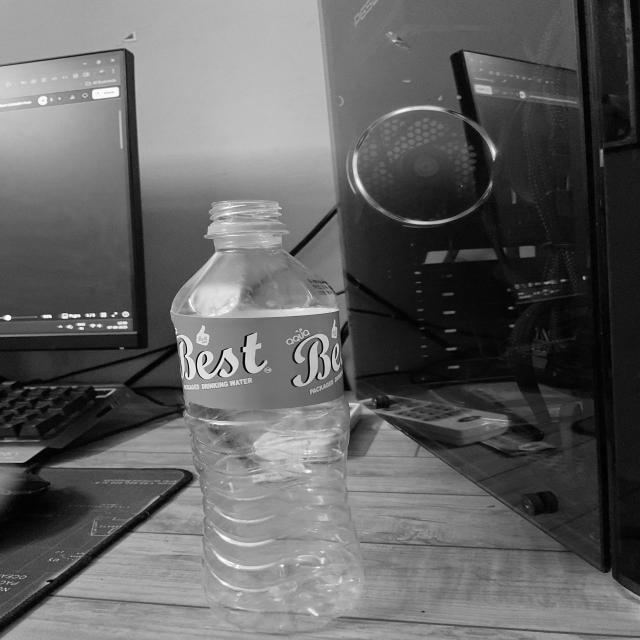open-cap: (207, 201, 284, 234)
